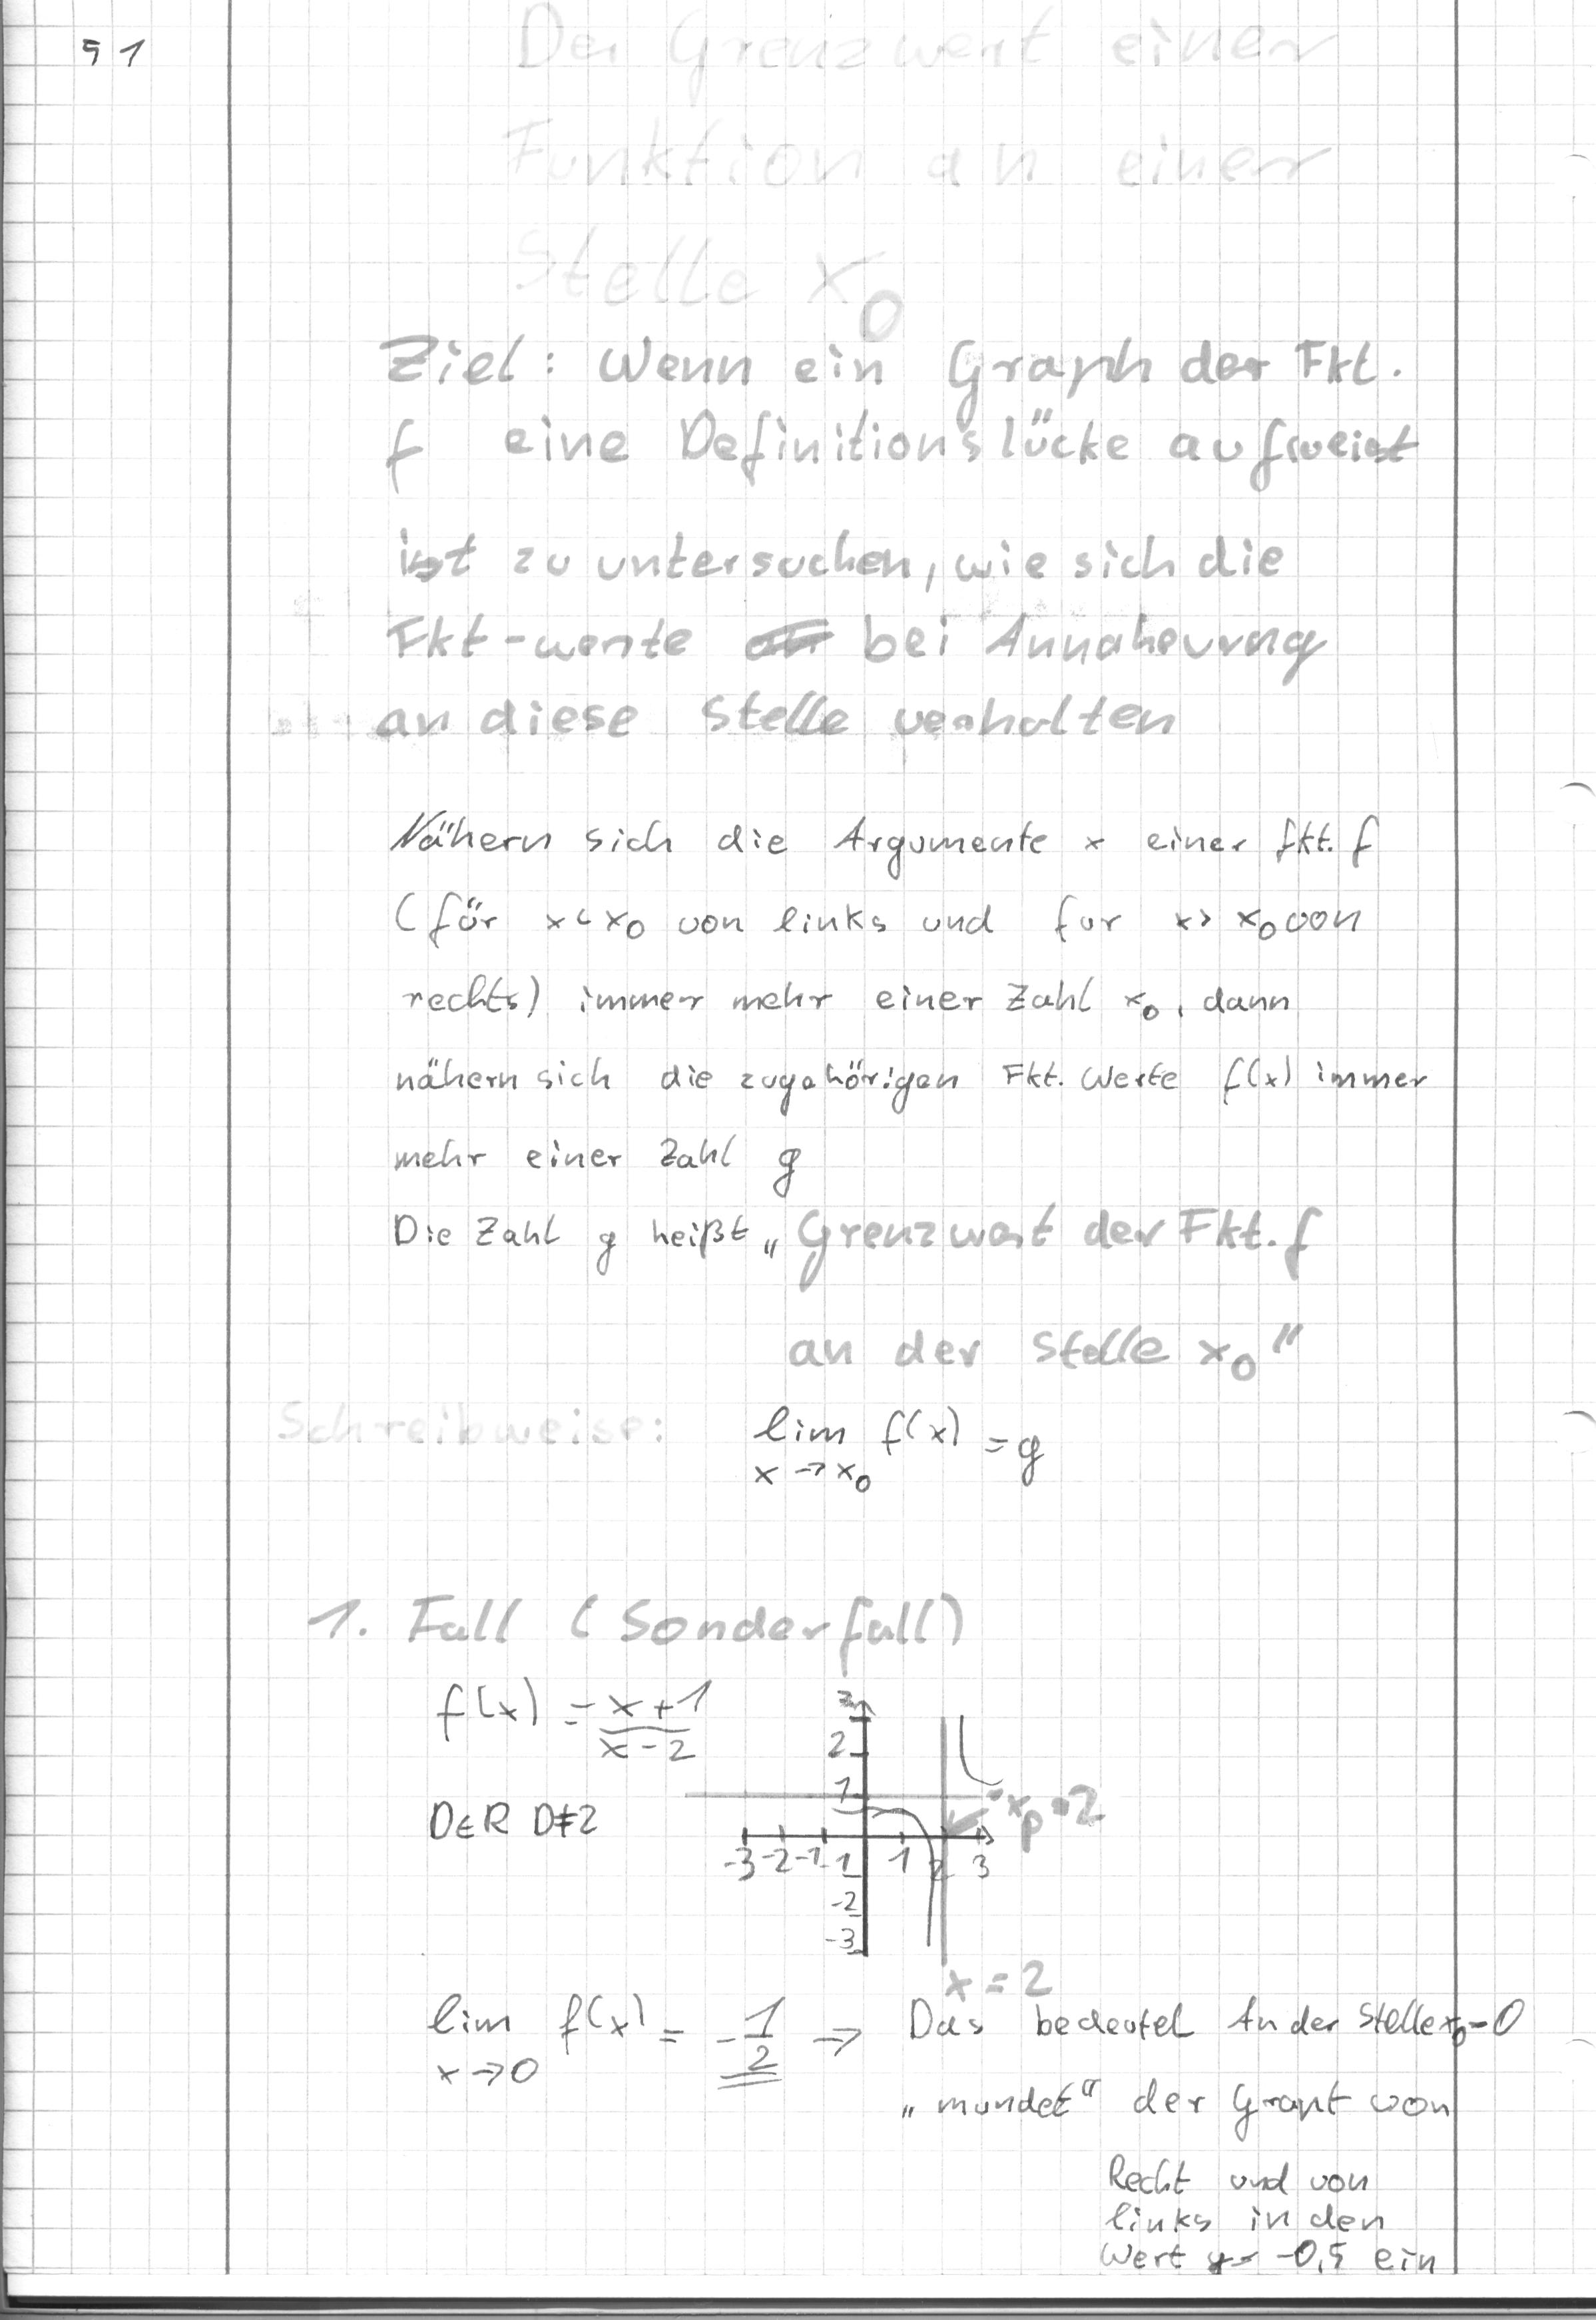word: (370, 796, 1444, 1202), (895, 1991, 1542, 2144), (418, 1969, 867, 2112), (1096, 2148, 1444, 2282), (734, 1382, 1070, 1518), (425, 1668, 721, 1779), (378, 1199, 784, 1281), (419, 1787, 620, 1861)
